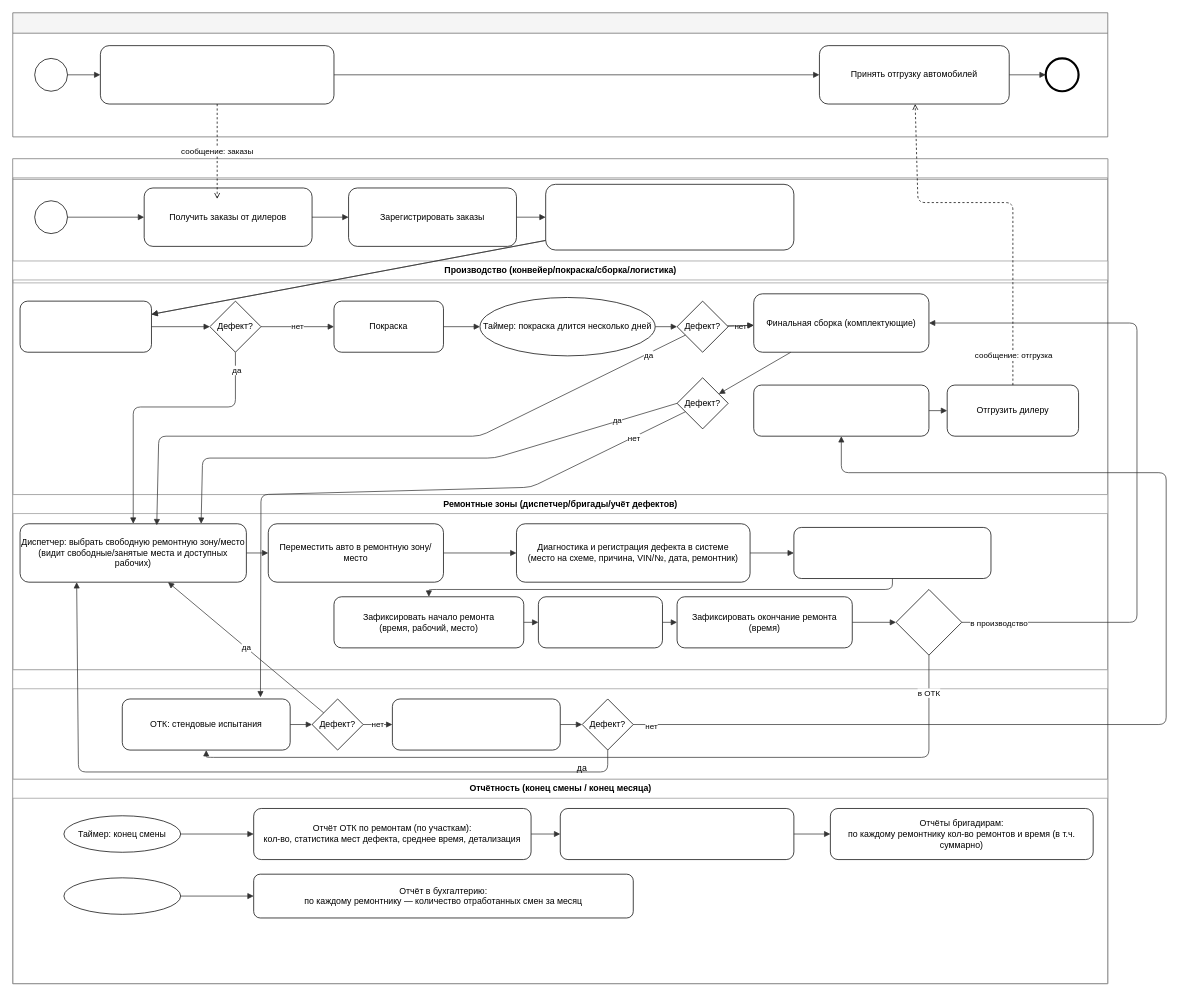
The diagram is 1185 pixels wide and 996 high, and some of its shapes have lost their labels. Each missing label, with the box of its shape:
Бригадир: назначить ремонт конкретному рабочему: (793, 527, 991, 579)
Выполнить ремонт: (538, 596, 662, 648)
Дилер (внешний участник): (12, 12, 1108, 137)
Куда вернуть авто?: (895, 589, 962, 655)
Отдел планирования: (12, 158, 1108, 283)
ОТК (стендовые и ходовые испытания): (12, 669, 1108, 779)
ОТК: ходовые испытания: (392, 698, 560, 750)
Отчёт начальнику цеха: общее кол-во ремонтов и суммарное время: (560, 808, 794, 860)
Подготовить к отгрузке: (753, 384, 929, 436)
Сборка кузова: (19, 300, 151, 352)
Составить производственный план (учёт загрузки конвейера и поставок): (545, 184, 794, 250)
Сформировать и отправить заказы на производство (комплектация/цвет/кол-во): (100, 45, 334, 104)
Таймер: конец месяца: (63, 877, 181, 914)
